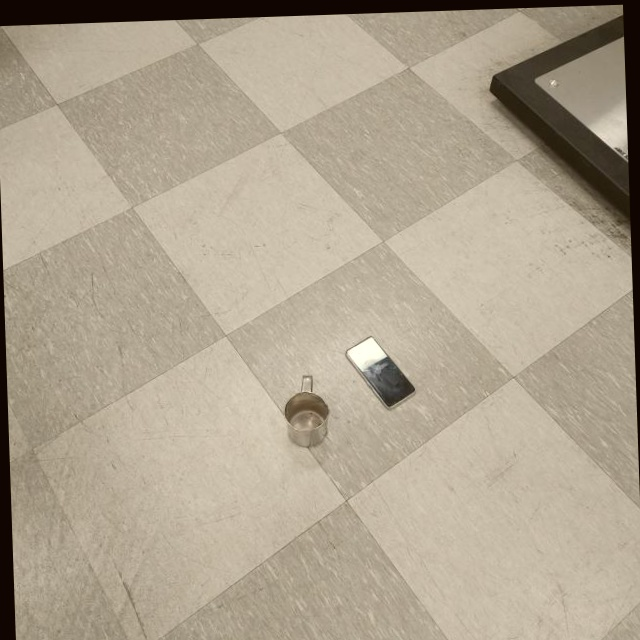cup: (284, 374, 334, 447)
phone: (344, 334, 416, 411)
